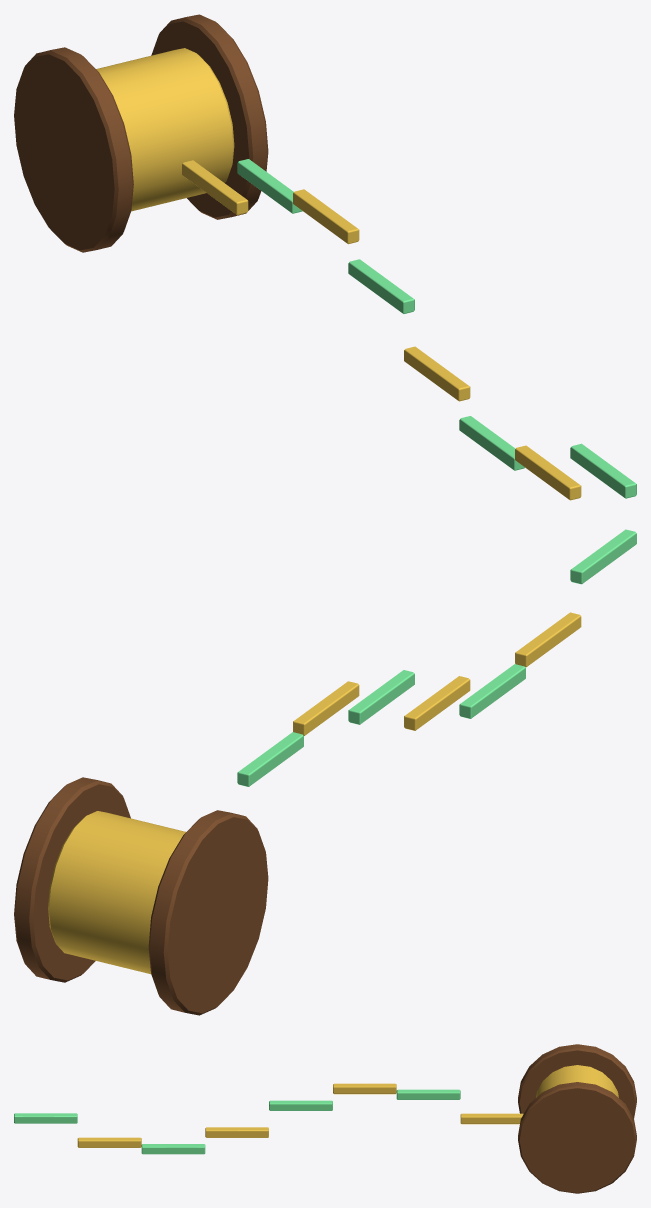
Rendered from thread_tether.glb.
The picture shows the model from 3 angles, top to bottom: view 1: azimuth 30°, elevation 25°; view 2: azimuth 150°, elevation 25°; view 3: azimuth 270°, elevation 25°; orthographic projection. The views are drawn at different scales.
Visible parts, largest first — view 1: spool_cap_b, spool, spool_cap_a, beam_6, beam_4, beam_7, beam_0, beam_3, beam_2, beam_5, beam_1; view 2: spool_cap_b, spool, spool_cap_a, beam_7, beam_3, beam_1, beam_4, beam_5, beam_6, beam_2; view 3: spool_cap_a, spool_cap_b, spool, beam_2, beam_0, beam_5, beam_6, beam_1, beam_3, beam_4, beam_7.
Boxes of the visible parts, left/top/right/bottom form: spool_cap_b: left=14, top=47, right=133, bottom=252; spool: left=96, top=48, right=234, bottom=211; spool_cap_a: left=151, top=14, right=268, bottom=219; beam_6: left=515, top=445, right=581, bottom=500; beam_4: left=404, top=346, right=470, bottom=401; beam_7: left=570, top=443, right=636, bottom=498; beam_0: left=182, top=160, right=248, bottom=215; beam_3: left=348, top=259, right=414, bottom=313; beam_2: left=293, top=189, right=359, bottom=244; beam_5: left=459, top=416, right=524, bottom=470; beam_1: left=237, top=159, right=302, bottom=213; spool_cap_b: left=148, top=810, right=268, bottom=1015; spool: left=48, top=811, right=185, bottom=974; spool_cap_a: left=14, top=777, right=130, bottom=982; beam_7: left=570, top=529, right=636, bottom=584; beam_3: left=348, top=670, right=414, bottom=724; beam_1: left=237, top=732, right=303, bottom=786; beam_4: left=404, top=676, right=470, bottom=730; beam_5: left=459, top=664, right=525, bottom=718; beam_6: left=515, top=612, right=581, bottom=667; beam_2: left=293, top=681, right=359, bottom=735; spool_cap_a: left=518, top=1082, right=636, bottom=1193; spool_cap_b: left=518, top=1044, right=636, bottom=1118; spool: left=536, top=1065, right=618, bottom=1097; beam_2: left=333, top=1083, right=396, bottom=1094; beam_0: left=460, top=1113, right=523, bottom=1124; beam_5: left=141, top=1144, right=205, bottom=1154; beam_6: left=77, top=1137, right=141, bottom=1147; beam_1: left=396, top=1089, right=460, bottom=1099; beam_3: left=269, top=1100, right=332, bottom=1110; beam_4: left=205, top=1127, right=268, bottom=1137; beam_7: left=14, top=1113, right=77, bottom=1123.
Bounding box in the file's own units: 0.24 × 0.28 × 1.47.
